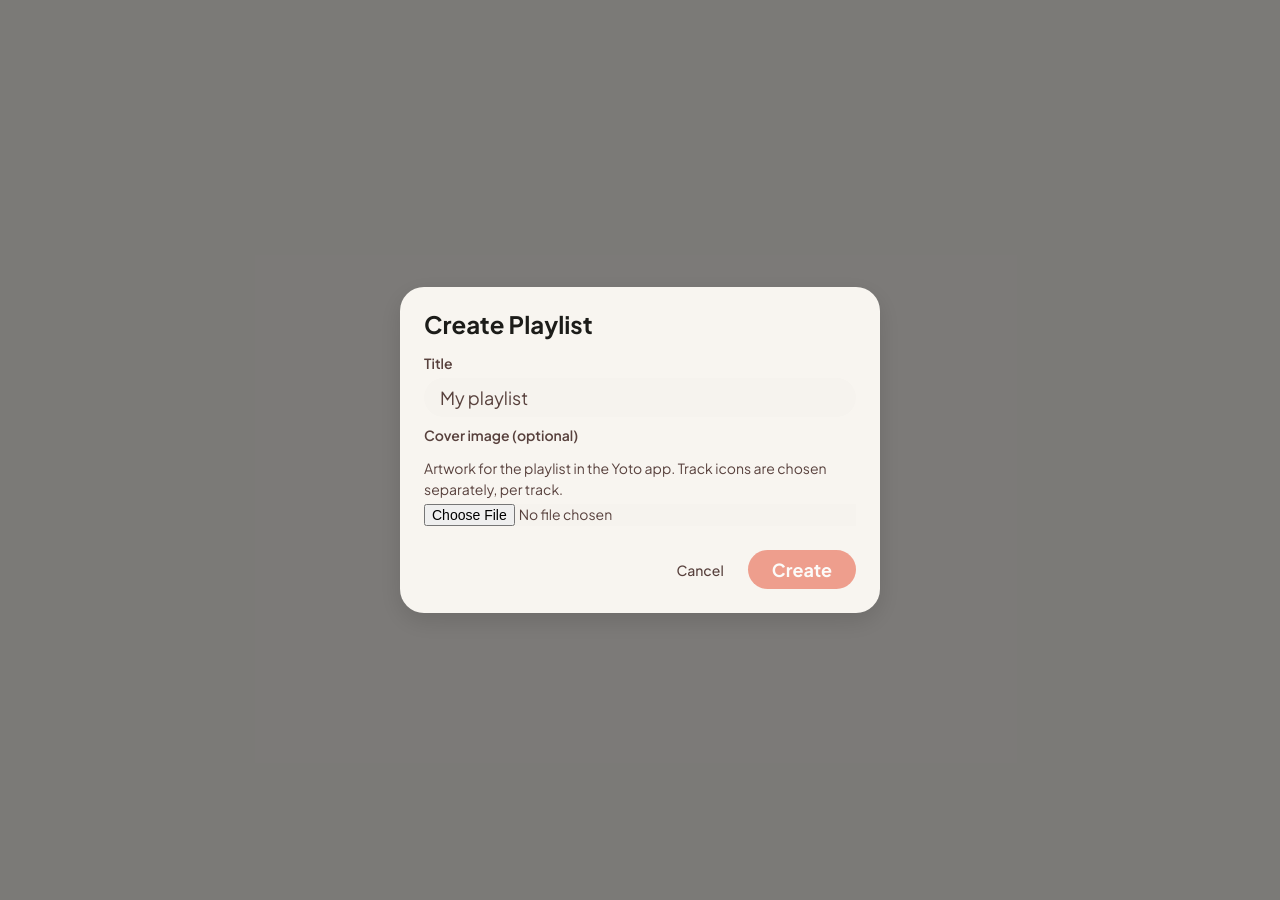
Scenario: CreateCardDialog › reports a failure instead of hanging on "Creating..."
The width and height of the screenshot is (1280, 900).
In the field with placeholder "My playlist": (640, 398) [424, 378, 856, 417], type "Bedtime"
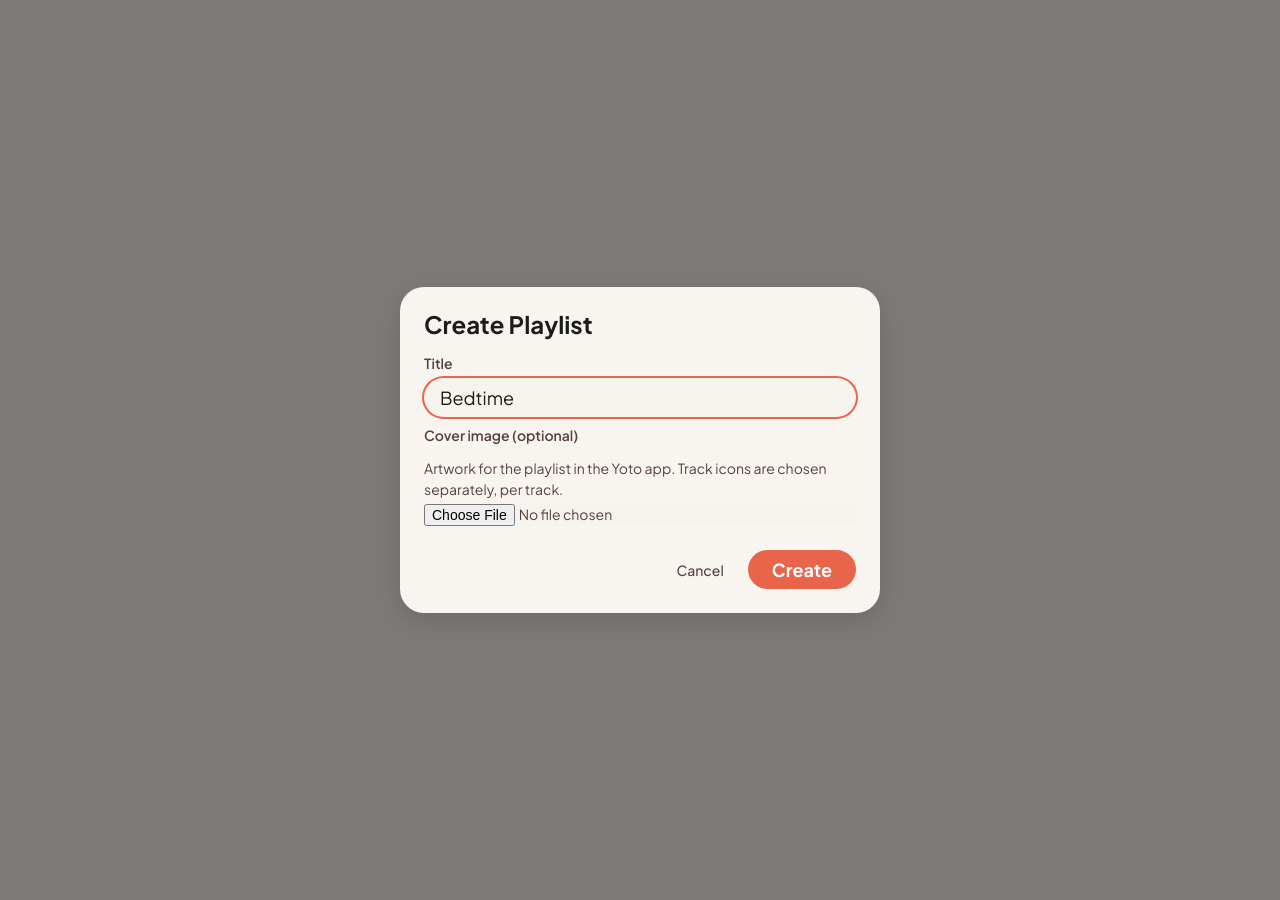
Click the button "Create": (802, 570) [748, 550, 856, 589]
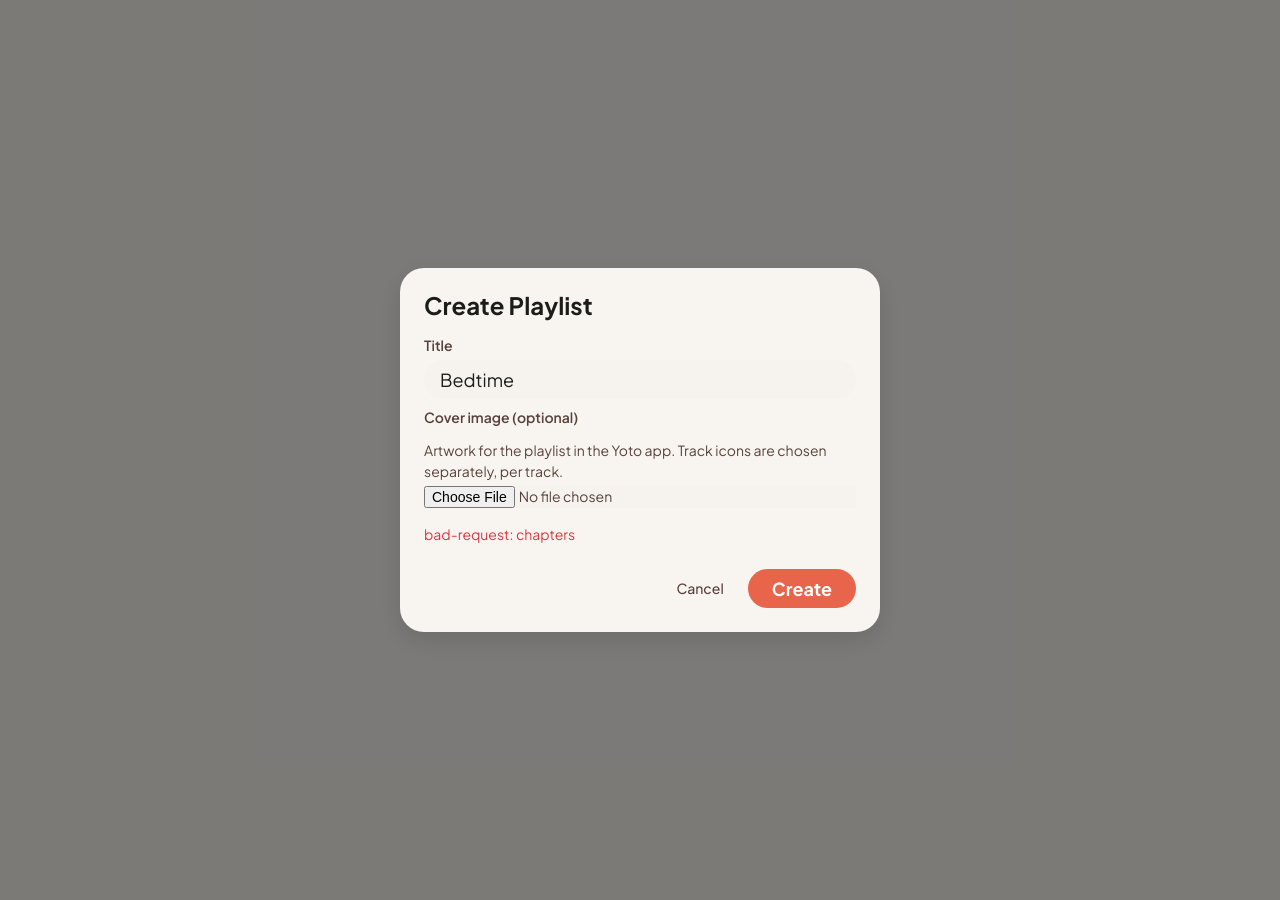
Now the button "Create" is enabled, box [748, 569, 856, 608]
Now the message reads "bad-request: chapters", box [424, 525, 575, 543]
